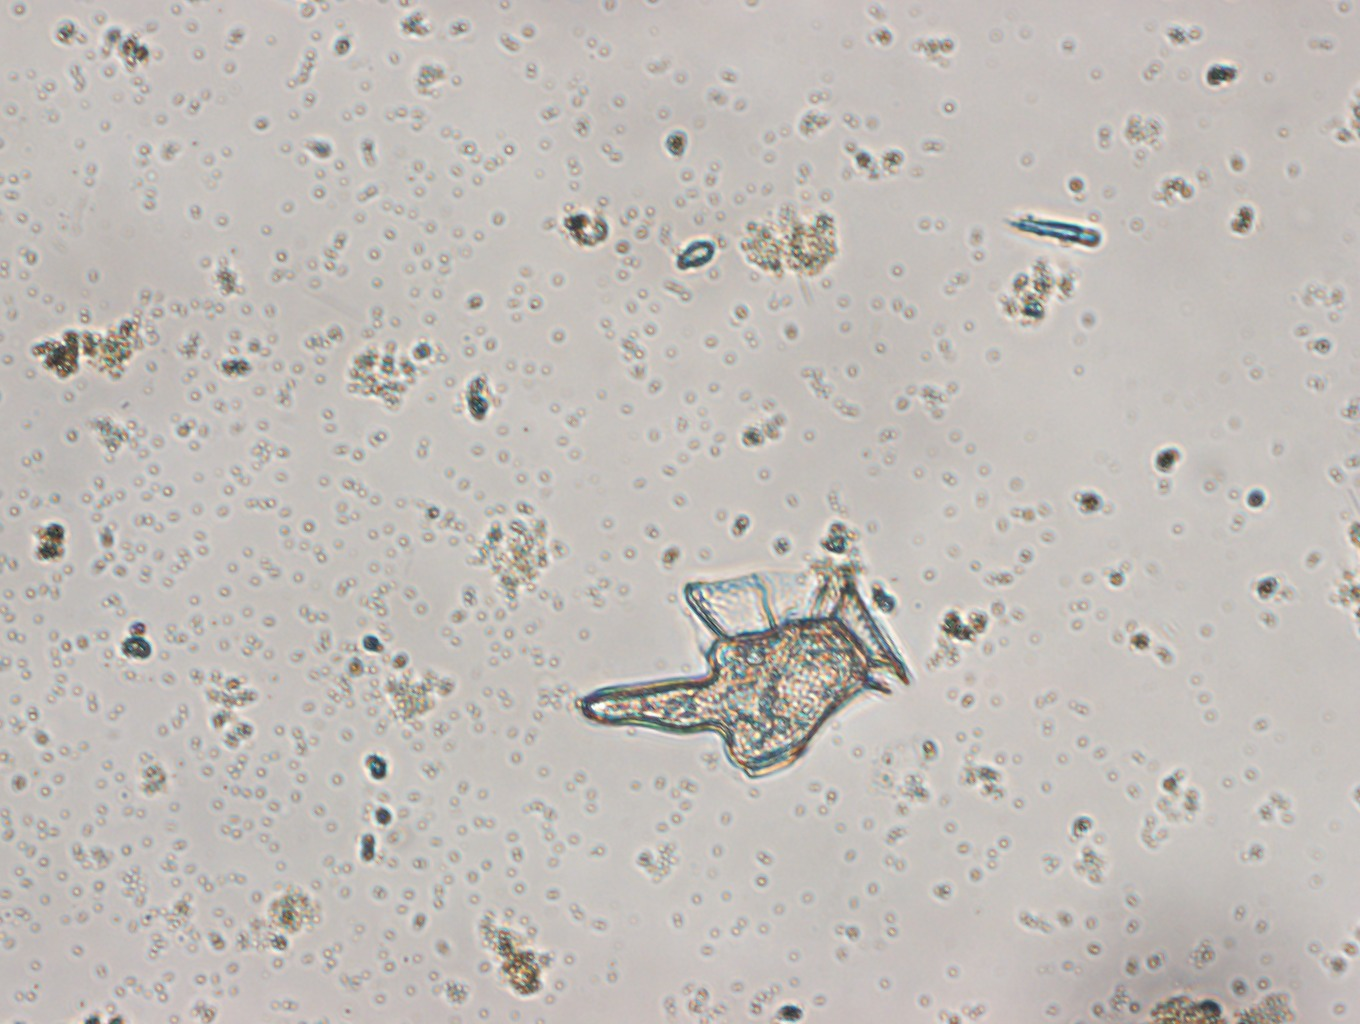dinophysis caudata: (579, 569, 916, 779)
